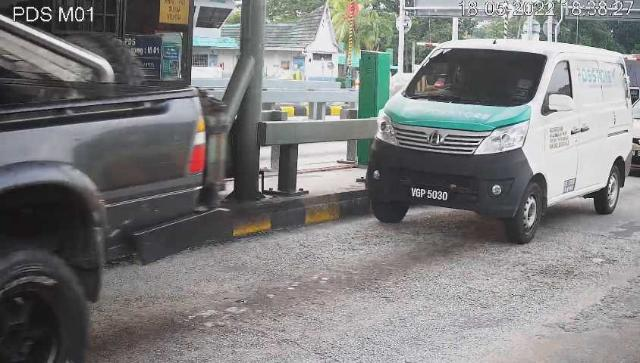License_Plate: (404, 184, 457, 208)
